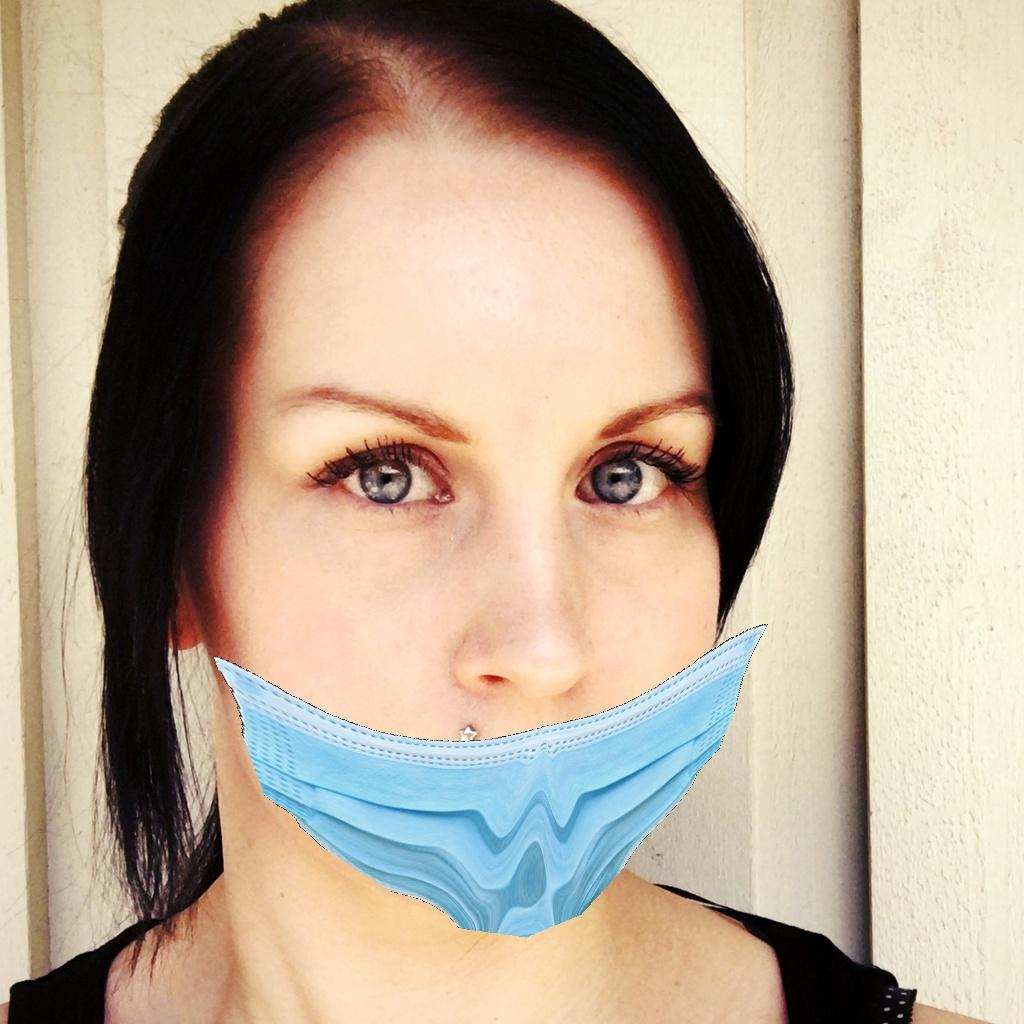Máscara Incorreta: (248, 350, 710, 900)
